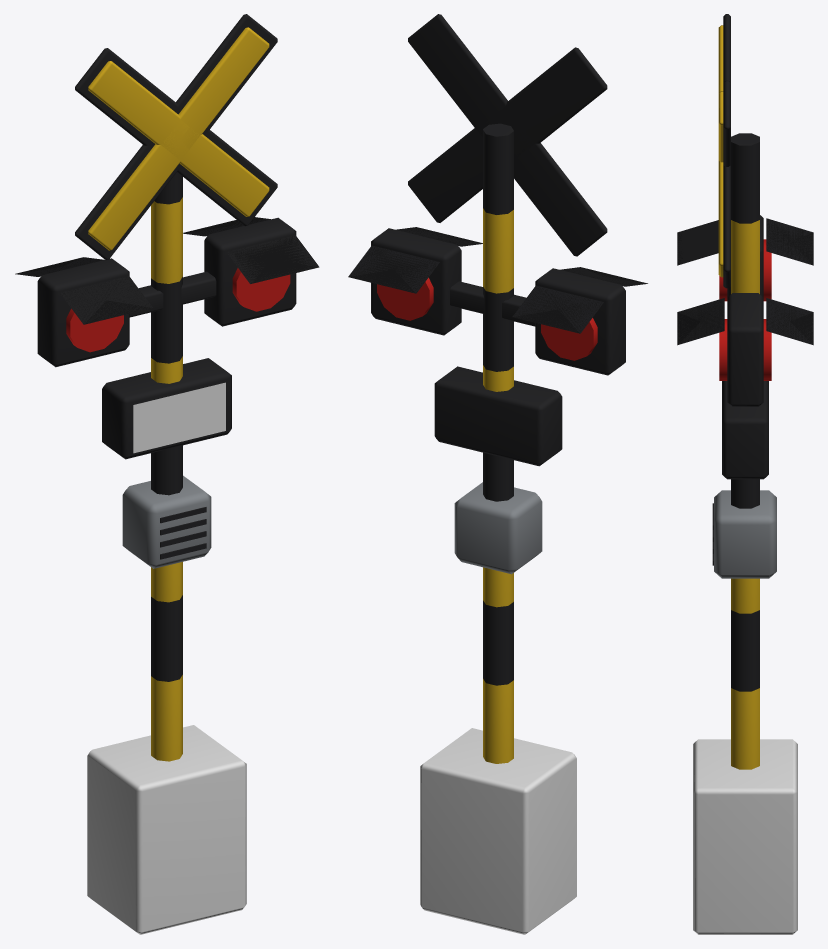
Rendered from CrossingSignalKM.fbx.
3 renders of one model, left to right at view 1: azimuth 30°, elevation 25°; view 2: azimuth 150°, elevation 25°; view 3: azimuth 270°, elevation 25°, orthographic. The views are drawn at different scales.
Visible parts, largest first — view 1: CrossingSignalKM; view 2: CrossingSignalKM; view 3: CrossingSignalKM.
Boxes of the visible parts, x1,y1,x2,y2 form: CrossingSignalKM: (15, 14, 319, 934); CrossingSignalKM: (348, 14, 647, 934); CrossingSignalKM: (677, 14, 813, 934).
Size of the model in its own units: 1.06 by 3.63 by 0.52.
